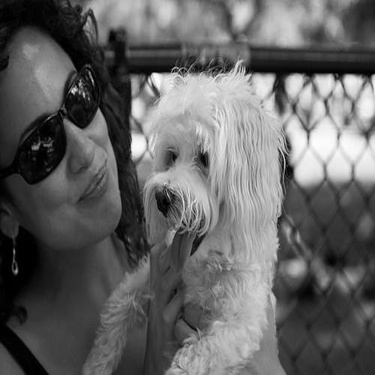dog: (73, 54, 292, 371)
